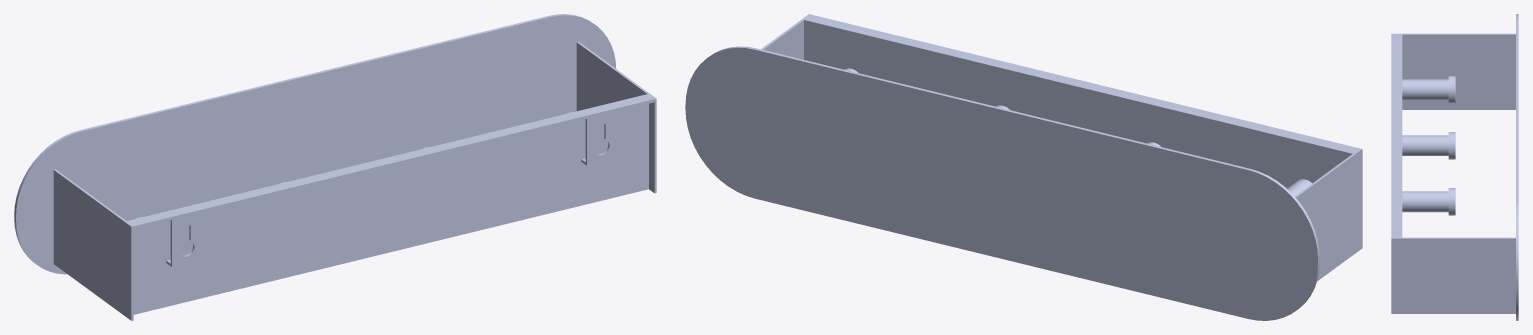
File: round-hook.74c8e8de34.glb
3 renders of one model, left to right at view 1: azimuth 30°, elevation 25°; view 2: azimuth 150°, elevation 25°; view 3: azimuth 270°, elevation 25°, orthographic. The views are drawn at different scales.
Parts seen in each view (by area): view 1: NAUO1; view 2: NAUO1; view 3: NAUO1.
Part boxes in pixels (left/top/right/bottom): NAUO1: left=14, top=14, right=656, bottom=320; NAUO1: left=685, top=14, right=1362, bottom=320; NAUO1: left=1391, top=14, right=1518, bottom=320.
Bounding box in the file's own units: 0.4 × 0.09 × 0.092.
